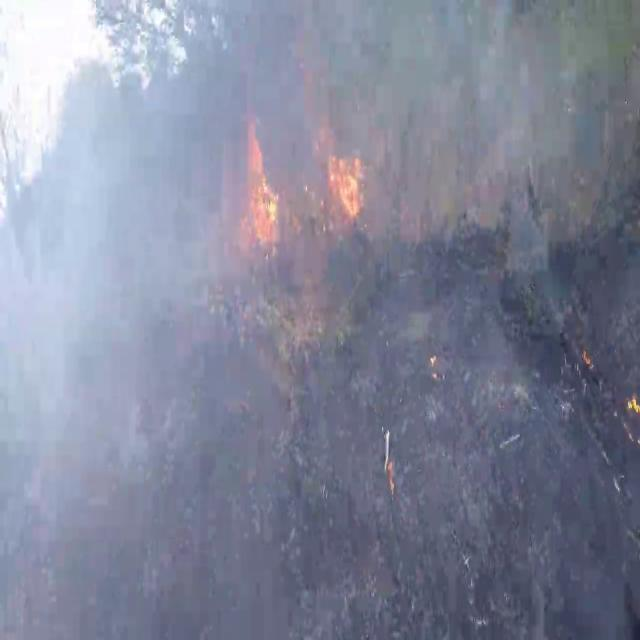Fire: (300, 104, 383, 258), (242, 118, 282, 254)
Smoke: (0, 2, 634, 638)
